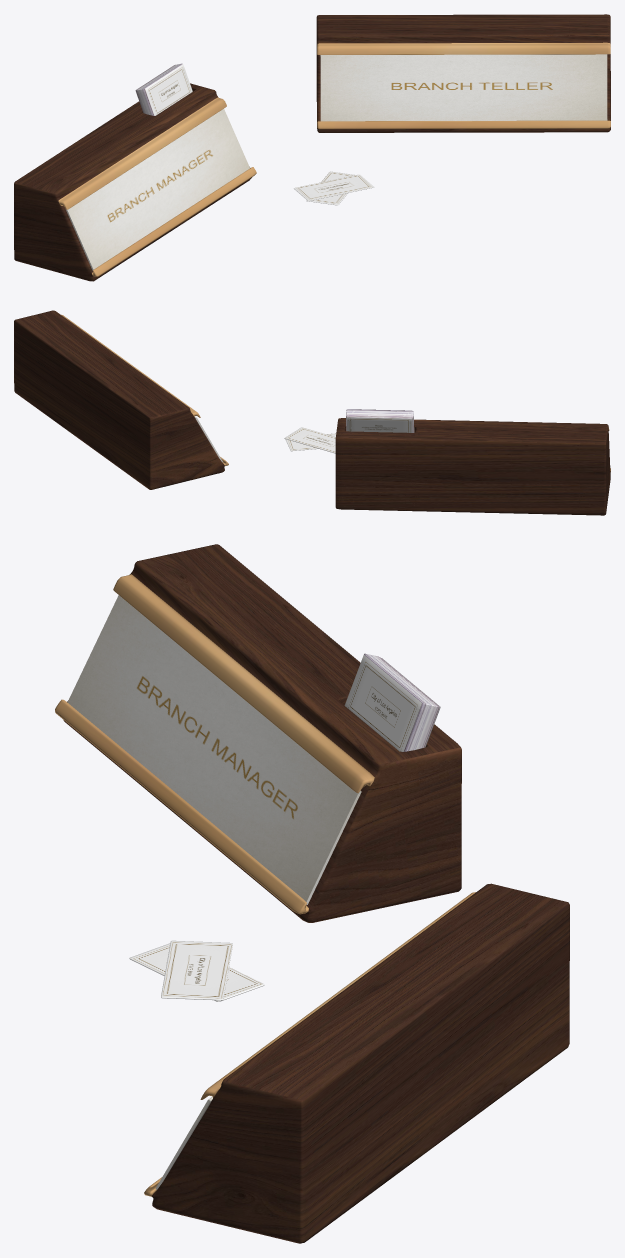
File: desk_name_plaque_2_kinds.glb
3 renders of one model, top to bottom at view 1: azimuth 30°, elevation 25°; view 2: azimuth 150°, elevation 25°; view 3: azimuth 270°, elevation 25°, orthographic. The views are drawn at different scales.
Visible parts, largest first — view 1: NameBadge_3, NameHolder_2, NameHolder_1, NameBadge_1, BuisnessCard_Stack, BuisnessCard_3, BuisnessCard_2; view 2: NameHolder_1, NameHolder_2, BuisnessCard_Stack, BuisnessCard_3; view 3: NameHolder_2, NameHolder_1, NameBadge_1, BuisnessCard_Stack, BuisnessCard_3, BuisnessCard_2.
Boxes of the visible parts, x1,y1,x2,y2 form: NameBadge_3: [320, 54, 607, 121]; NameHolder_2: [316, 14, 610, 132]; NameHolder_1: [14, 83, 256, 281]; NameBadge_1: [65, 109, 249, 270]; BuisnessCard_Stack: [135, 63, 192, 115]; BuisnessCard_3: [293, 174, 374, 200]; BuisnessCard_2: [306, 171, 355, 205]; NameHolder_1: [335, 418, 610, 515]; NameHolder_2: [14, 310, 228, 489]; BuisnessCard_Stack: [346, 409, 414, 432]; BuisnessCard_3: [284, 427, 335, 453]; NameHolder_2: [144, 883, 569, 1243]; NameHolder_1: [55, 544, 461, 922]; NameBadge_1: [67, 595, 361, 904]; BuisnessCard_Stack: [344, 653, 440, 751]; BuisnessCard_3: [161, 940, 232, 1000]; BuisnessCard_2: [129, 943, 264, 1001].
Size of the model in its own units: 29.71 by 4.69 by 11.61.
8 materials, 8 textured.
